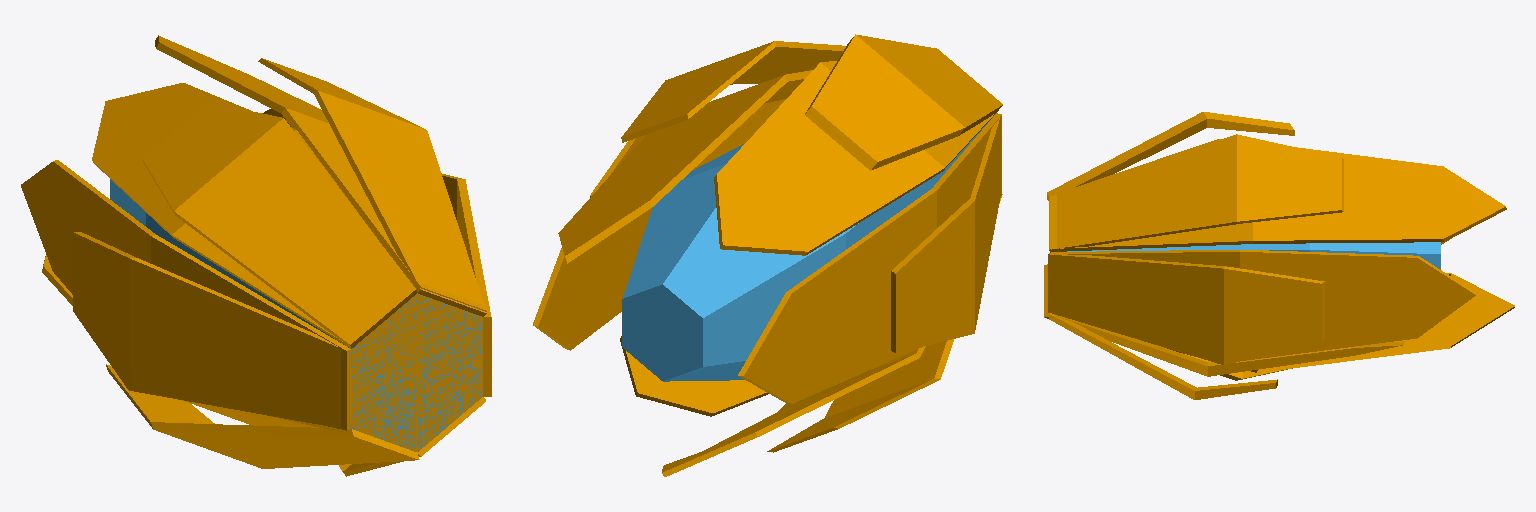
The robot description file, URDF, robot "washedRomaineLettuce":
<?xml version="1.0"?>
<robot name="washedRomaineLettuce">
  <link name="leaf">
    <inertial>
        <origin rpy="0 0 0" xyz="0 0 0"/>
        <mass value="0.01"/>
        <inertia ixx="4.4e-5" ixy="0" ixz="0" iyy="0" iyz="0" izz="4.4e-5"/>
    </inertial>
    <visual>
      <geometry>
        <mesh filename="lettuceLeaf.obj"/>
      </geometry>
    </visual>
    <collision>
      <geometry>
        <mesh filename="lettuceCollider.obj"/>
      </geometry>
      <surface>
           <bounce restitution_coefficient = "0.1"/>
      </surface>
    </collision>
  </link>
  <link name="head">
    <inertial>
        <origin rpy="0 0 0" xyz="0 0 0"/>
        <mass value="0.001"/>
        <inertia ixx="1.9e-5" ixy="0" ixz="0" iyy="6.8e-6" iyz="0" izz="1.2e-5"/>
    </inertial>
    <visual>
      <geometry>
        <mesh filename="lettuceHeart.obj"/>
      </geometry>
    </visual>
    <collision>
      <geometry>
        <mesh filename="lettuceHeart.obj"/>
      </geometry>
      <surface>
           <bounce restitution_coefficient = "0.1"/>
      </surface>
    </collision>
  </link>
  <joint name="leaf_to_head" type="fixed">
    <parent link="leaf"/>
    <child link="head"/>
    <origin rpy="0 0 0" xyz="0 0 0"/>
  </joint>
</robot>

--- What the picture shows (computed from the rendered views, not written in the file) ---
The picture shows the robot from 3 angles, left to right: view 1: azimuth 30°, elevation 25°; view 2: azimuth 150°, elevation 25°; view 3: azimuth 270°, elevation 25°; orthographic projection.
Robot: washedRomaineLettuce — 2 links, 1 joints (1 fixed); root link leaf; default pose: every joint at zero.
Visible links, largest first — view 1: leaf, head; view 2: leaf, head; view 3: leaf, head.
Link boxes in pixels (x1,y1,x2,y2): leaf: [21, 35, 491, 476]; head: [110, 179, 482, 451]; leaf: [533, 34, 1002, 476]; head: [622, 116, 993, 381]; leaf: [1044, 112, 1514, 399]; head: [1067, 242, 1440, 269].
Bounding box of the posed robot: 0.394 × 0.6617 × 0.4163 m (x, y, z).
2 mesh visuals loaded from 2 distinct referenced files (2 OBJ).
